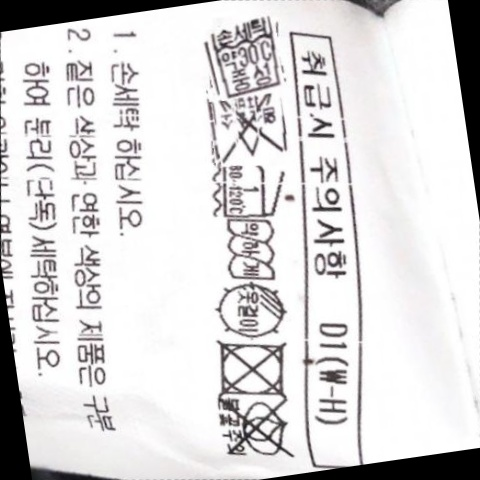DN_tumble_dry: (204, 330, 297, 406)
hand_wash: (201, 17, 289, 98)
iron_low: (212, 157, 287, 225)
line_dry_in_shade: (209, 277, 295, 343)
wring: (218, 214, 282, 287)
